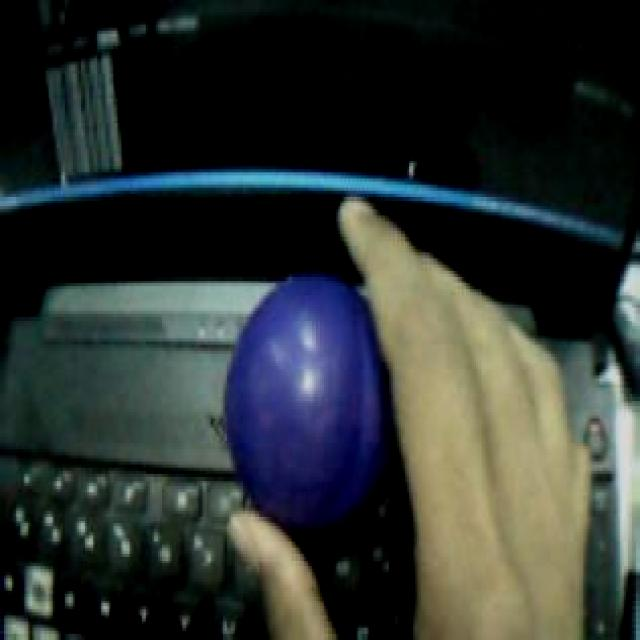BallPurple: (224, 271, 391, 526)
